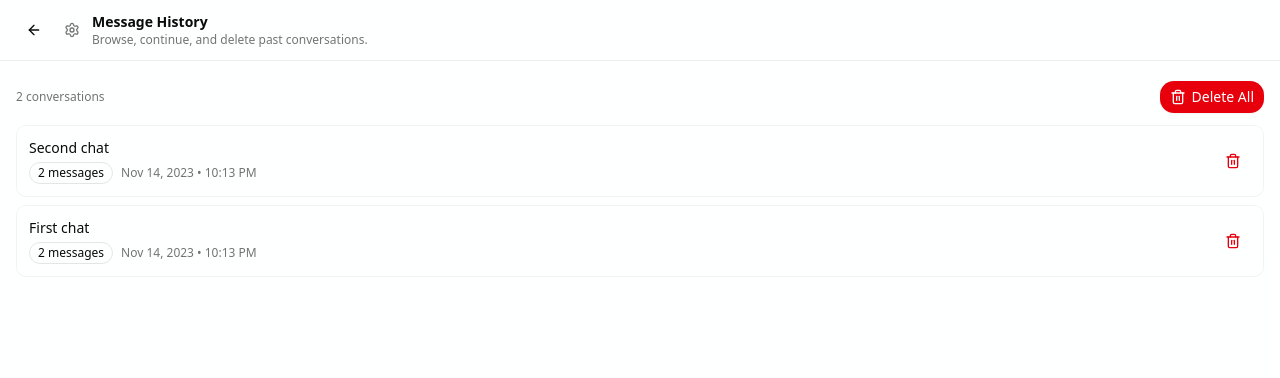
Test: Toggle Settings → Message History › navigation › Back from the list returns to Toggle Settings
Expected: the text "First chat" is shown, [29,218,89,237]
What coordinates should you click on to do the following:
click the button named "Go back"
I would click on:
 (34, 30)
Its box is [16,12,52,48].
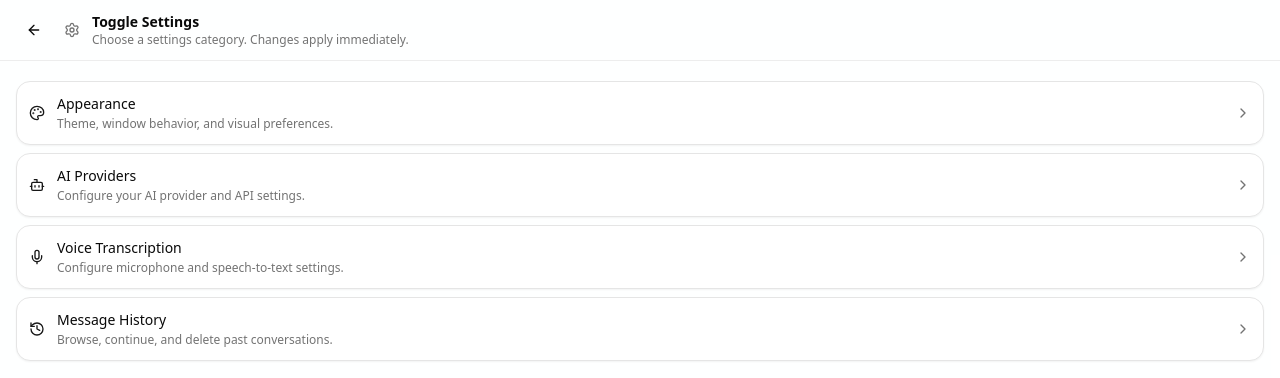
Expected: the heading "Toggle Settings" is shown, [92,12,199,31]
